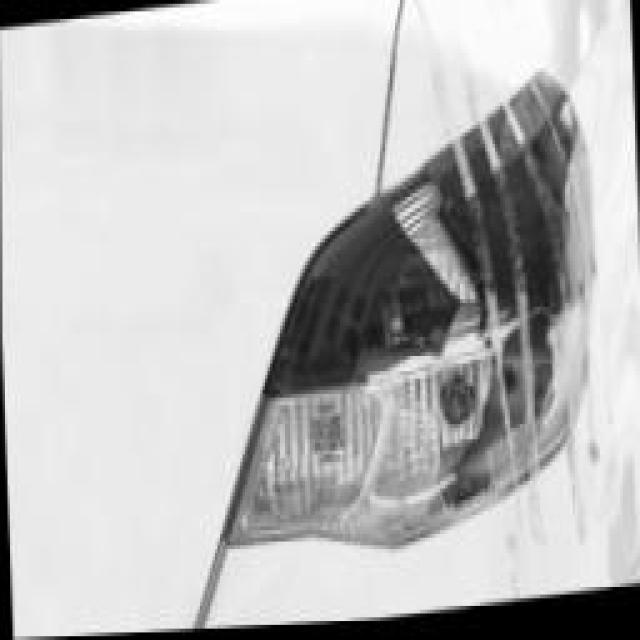Light: (225, 75, 596, 548)
